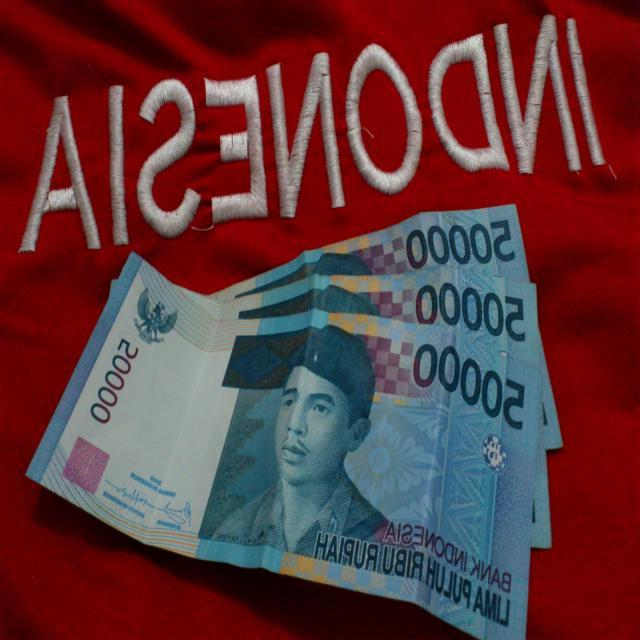lima puluh ribu rupiah: (104, 247, 546, 580)
